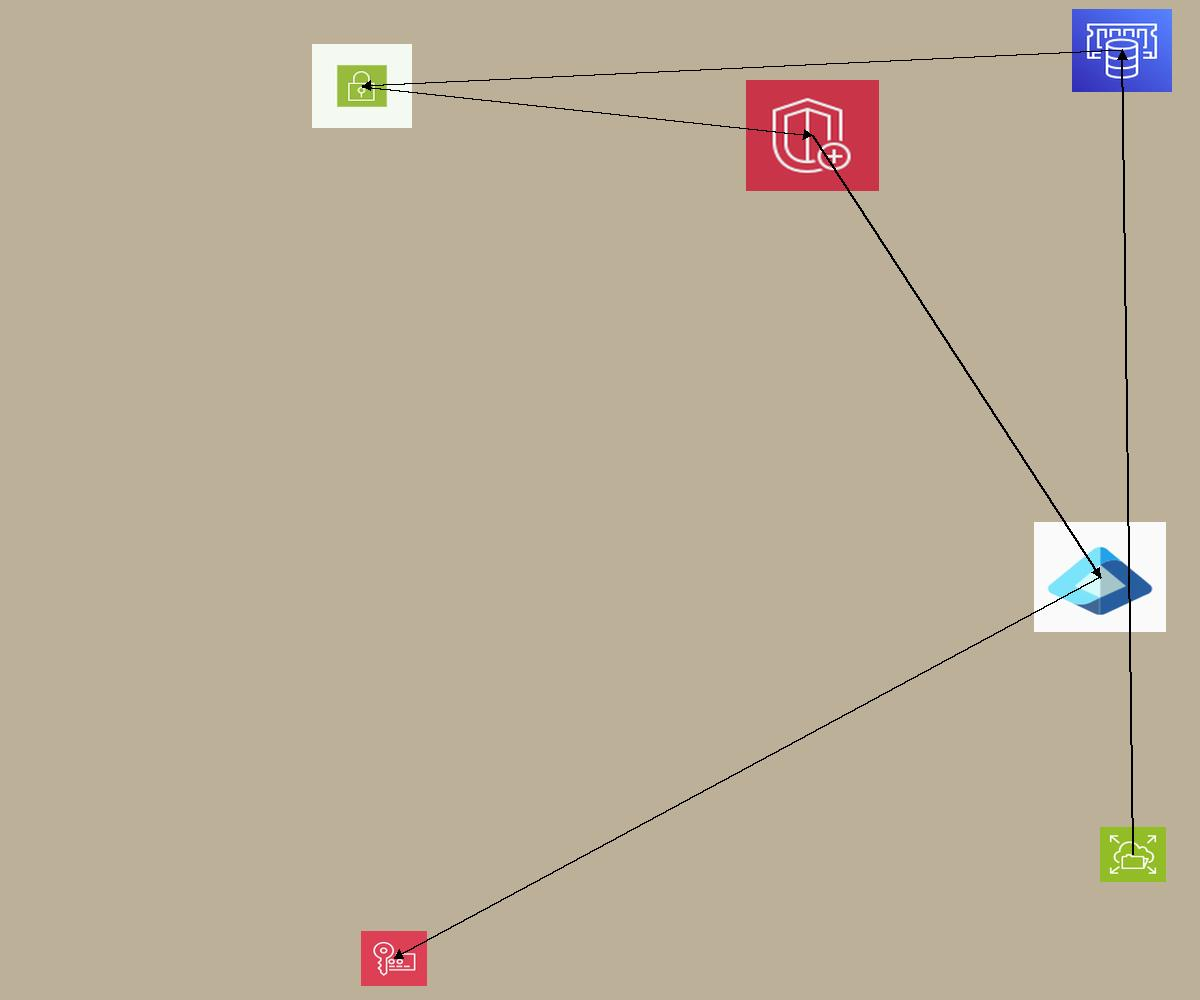AWS-EFS: (1100, 827, 1166, 882)
AWS-ElastiCache: (1072, 9, 1172, 92)
AWS-Key-Management-Service: (361, 931, 427, 986)
AWS-Public-subnet: (312, 44, 412, 128)
AWS-Shield: (746, 80, 879, 191)
Azure_microsoft_entra: (1034, 522, 1166, 632)
